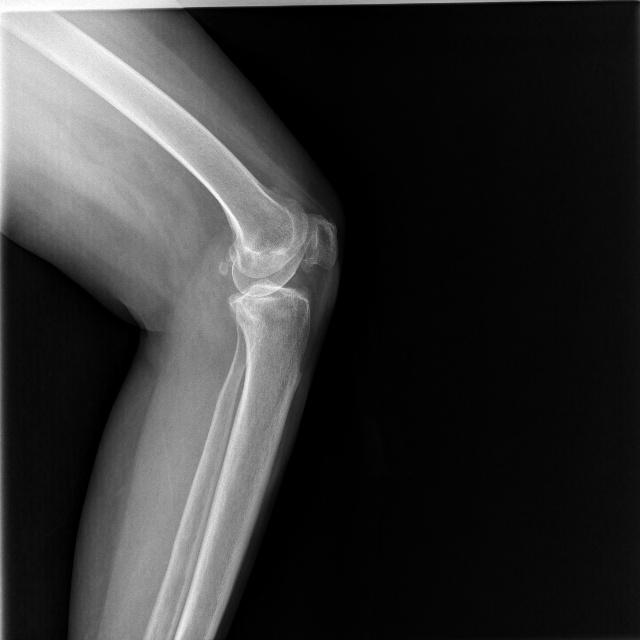Knee: (219, 208, 342, 336)
